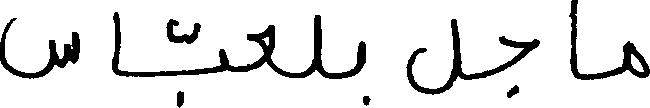X: (0, 13, 78, 83), (406, 14, 461, 99), (500, 31, 539, 102), (245, 20, 274, 76), (623, 36, 649, 82), (571, 0, 578, 107), (355, 36, 364, 107), (314, 10, 322, 80), (112, 7, 119, 80), (217, 44, 229, 76)
